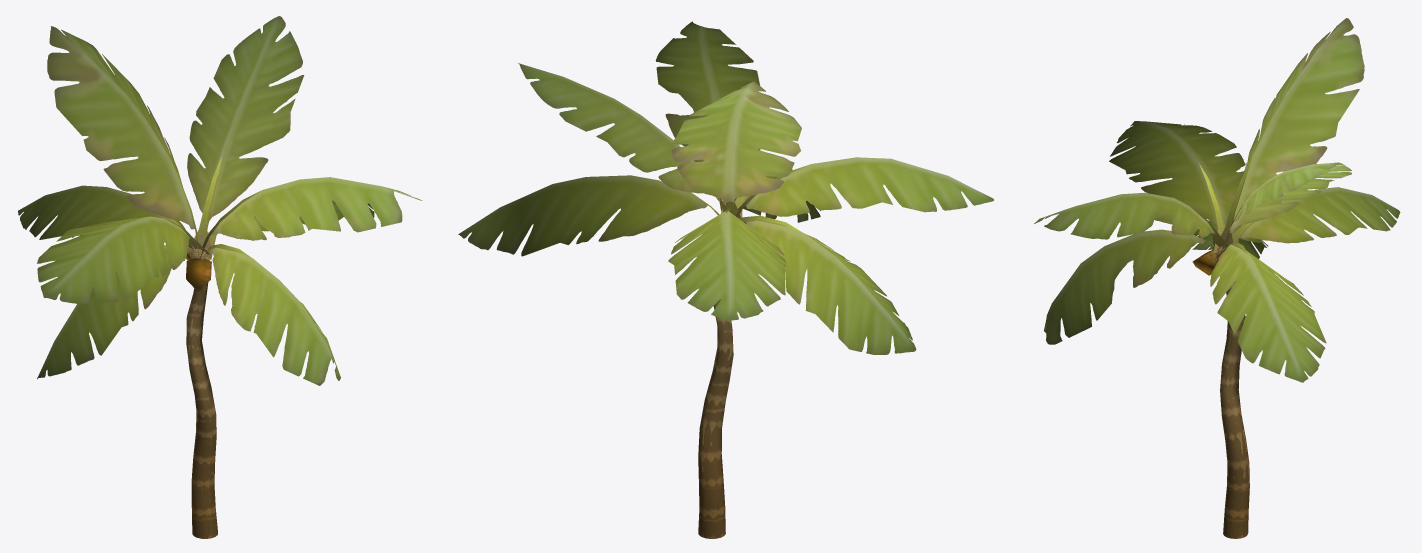
Rendered from coconut palm 04_lod3.obj.
The picture shows the model from 3 angles, left to right: view 1: azimuth 30°, elevation 25°; view 2: azimuth 150°, elevation 25°; view 3: azimuth 270°, elevation 25°; orthographic projection. The views are drawn at different scales.
Visible parts, largest first — view 1: tree; view 2: tree; view 3: tree.
Boxes of the visible parts, x1,y1,x2,y2 form: tree: (18, 16, 422, 538); tree: (458, 21, 993, 538); tree: (1034, 18, 1400, 538).
Size of the model in its own units: 374 by 416 by 303.
